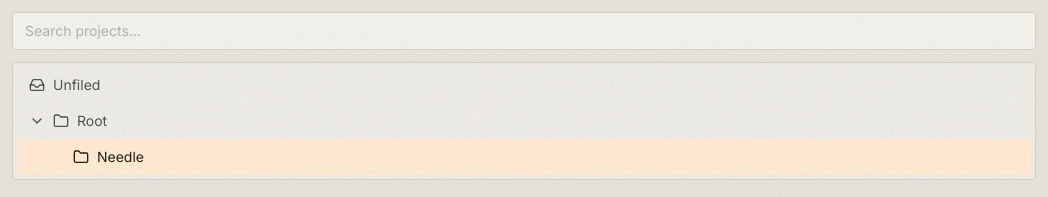
Test: ProjectTreePicker › keeps a rendered tree item tabbable when filtering removes the focus target
Type "no match" into the field labelled "Search projects" at coordinates (524, 31), box [12,12,1036,50]
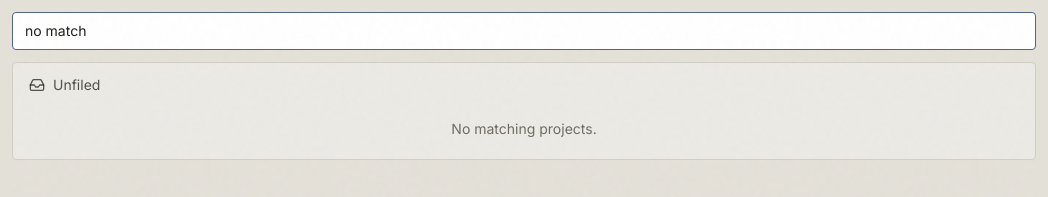
Expected: the list item reads "Unfiled", [17,67,1031,103]
Expected: the number of list items is 1, [17,67,1031,103]
Expected: the message reads "No matching projects.", [451,120,597,137]
